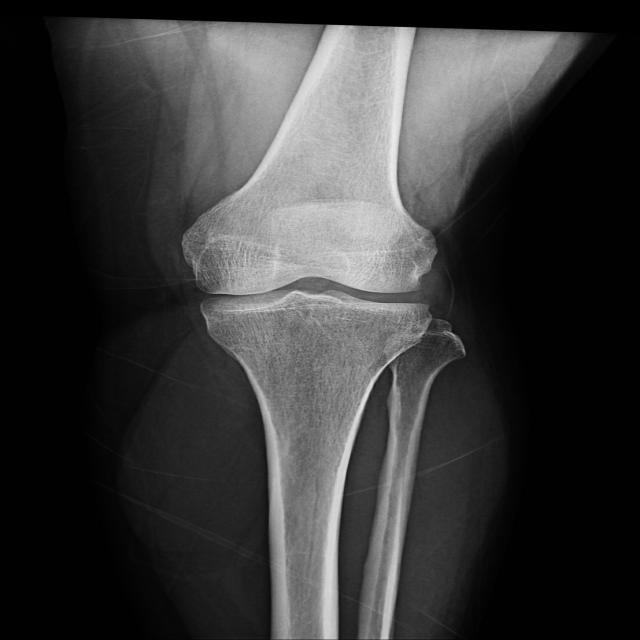osteo: (168, 207, 440, 333)
